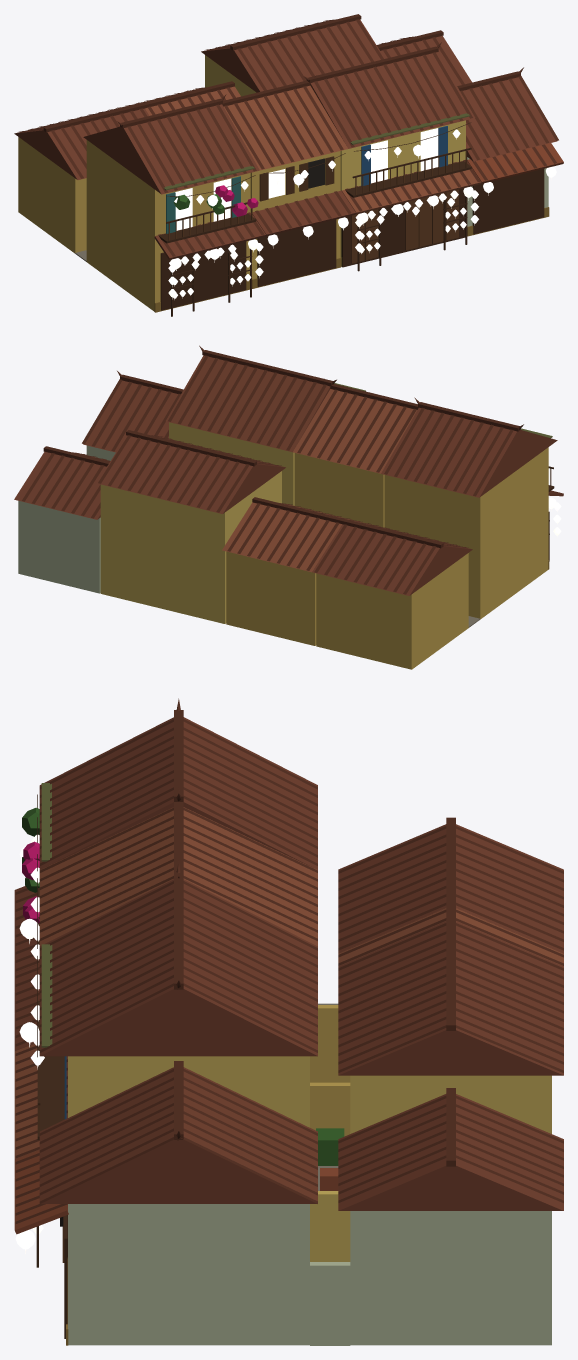
The model's file is hoi_an_shophouses_b.glb.
The picture shows the model from 3 angles, top to bottom: view 1: azimuth 30°, elevation 25°; view 2: azimuth 150°, elevation 25°; view 3: azimuth 270°, elevation 25°; orthographic projection. The views are drawn at different scales.
Parts seen in each view (by area): view 1: HoiAnShophouses_mat0, HoiAnShophouses_LanternGlow; view 2: HoiAnShophouses_mat0; view 3: HoiAnShophouses_mat0, HoiAnShophouses_LanternGlow.
Part boxes in pixels (x1,y1,x2,y2): HoiAnShophouses_mat0: [14, 14, 563, 316]; HoiAnShophouses_LanternGlow: [168, 128, 556, 299]; HoiAnShophouses_mat0: [14, 345, 563, 669]; HoiAnShophouses_mat0: [14, 698, 563, 1345]; HoiAnShophouses_LanternGlow: [14, 834, 44, 1253].
Size of the model in its own units: 20.68 by 8.25 by 13.64.
